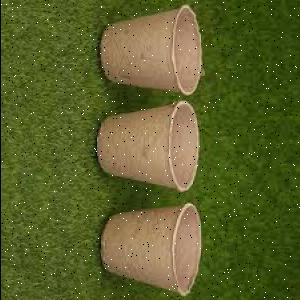Cup: (97, 100, 203, 194), (102, 203, 204, 297), (102, 5, 204, 97)
